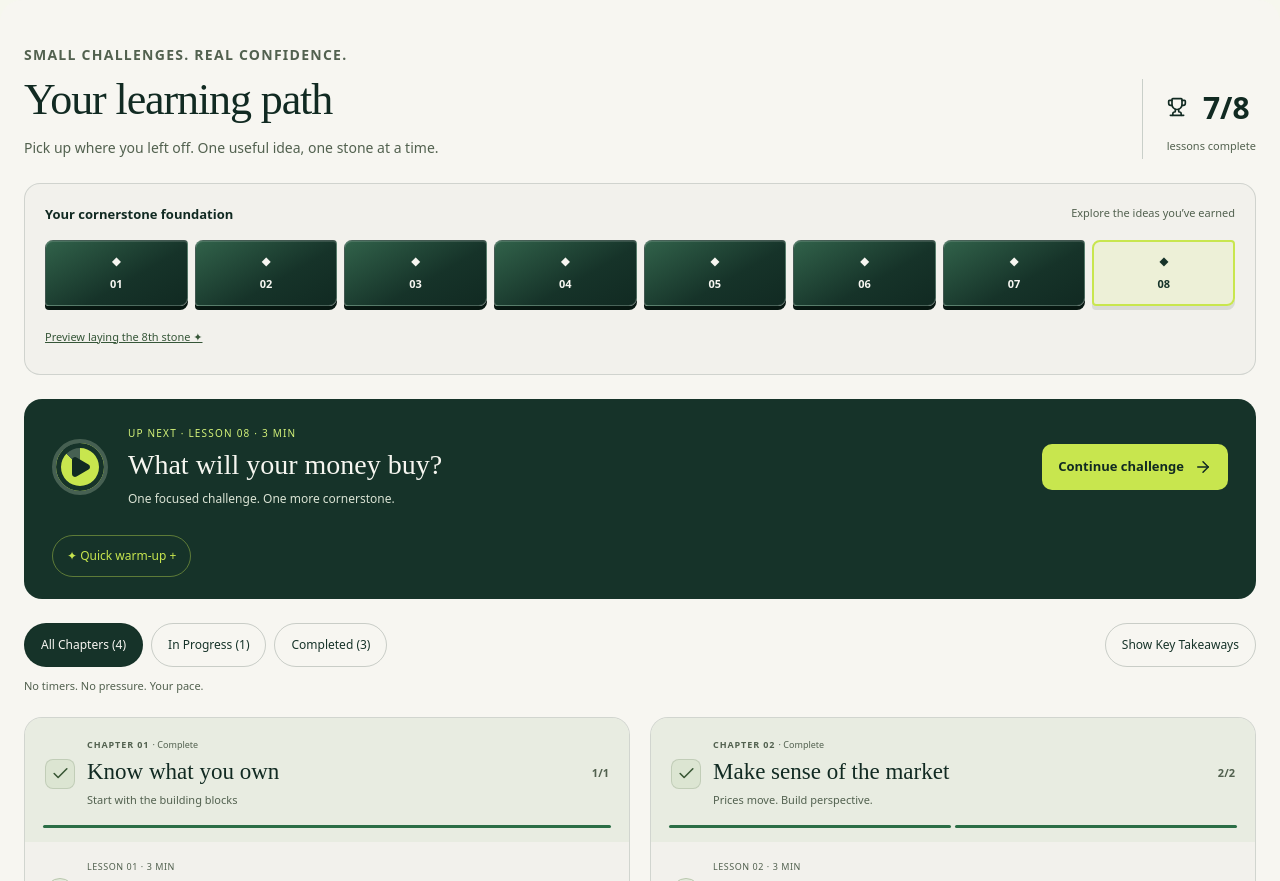
Scenario: lets keyboard and pointer users inspect individual earned stones
Focus the button "◆ 01" at (116, 273), box [45,240,188,306]
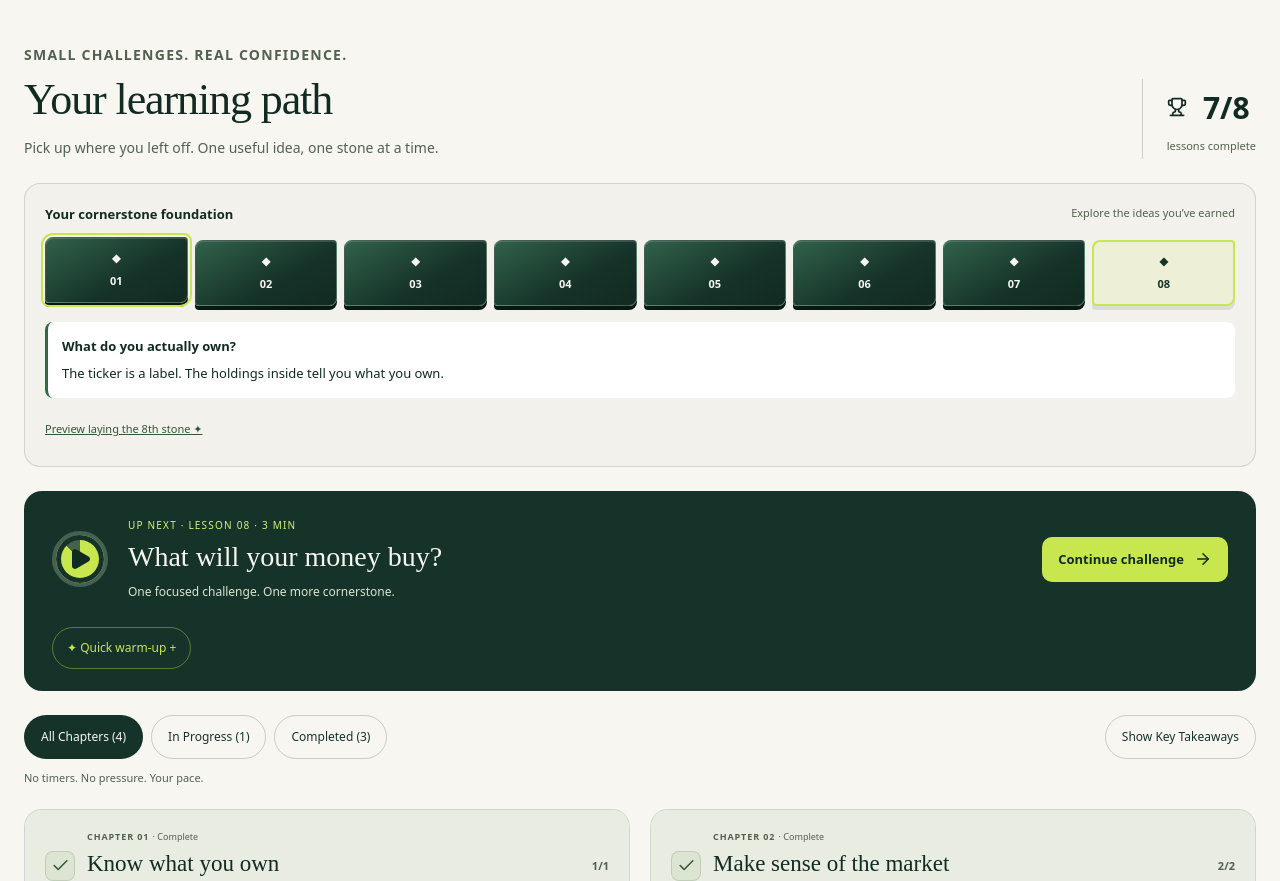
Expected: the text "The ticker is a label. The holdings inside tell you what you own." is shown, [62,364,444,382]
